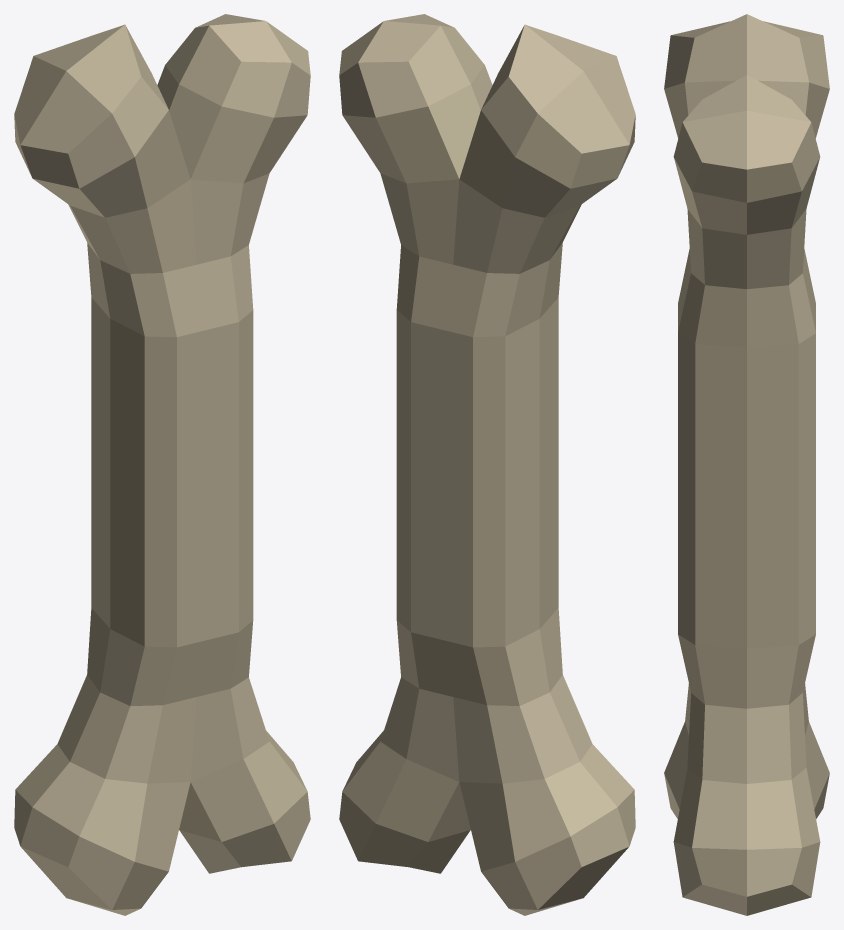
Rendered from Hueso 1.fbx.
3 views of the same model, side by side, from view 1: azimuth 30°, elevation 25°; view 2: azimuth 150°, elevation 25°; view 3: azimuth 270°, elevation 25° (orthographic). The views are drawn at different scales.
Visible parts, largest first — view 1: Bone; view 2: Bone; view 3: Bone.
Boxes of the visible parts, x1,y1,x2,y2 form: Bone: (14,14,310,915); Bone: (339,14,635,915); Bone: (664,14,829,915).
Bounding box in the file's own units: 34.37 × 102 × 17.68.
